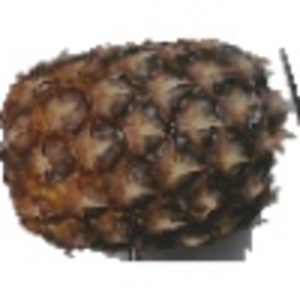abacaxi: (2, 40, 286, 247)
